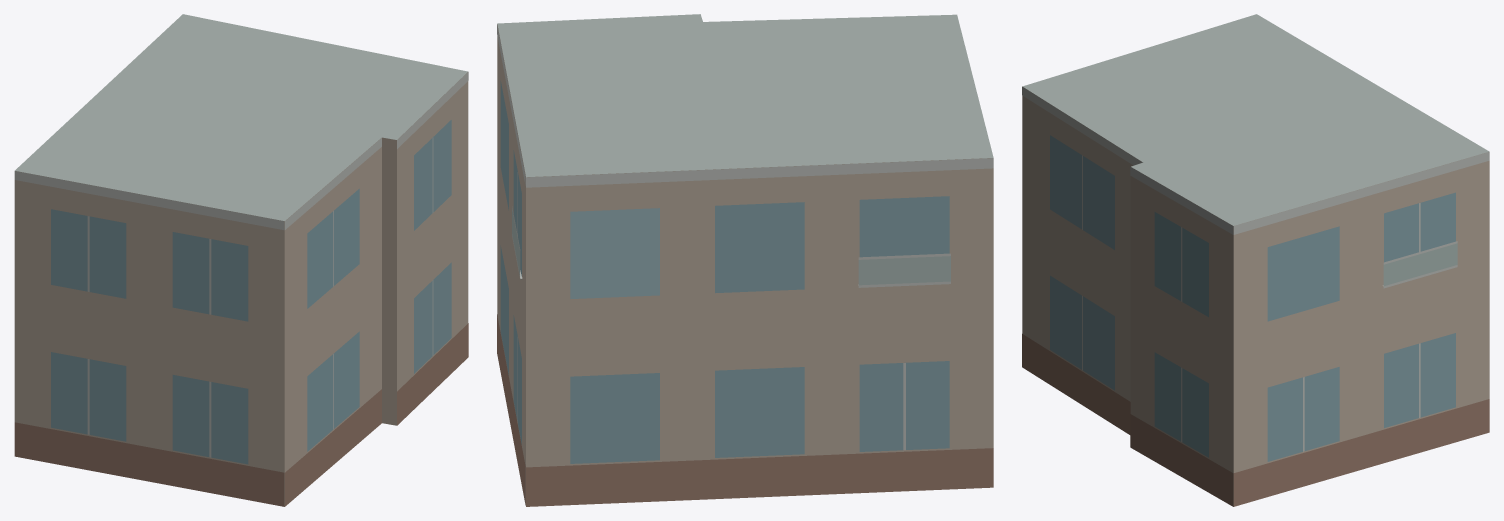
The model's file is survey-upis-32590088.glb.
3 views of the same model, side by side, from view 1: azimuth 30°, elevation 25°; view 2: azimuth 150°, elevation 25°; view 3: azimuth 270°, elevation 25° (orthographic). The views are drawn at different scales.
Parts seen in each view (by area): view 1: survey-upis-32590088.tmp; view 2: survey-upis-32590088.tmp; view 3: survey-upis-32590088.tmp.
Part boxes in pixels (x1,y1,x2,y2): survey-upis-32590088.tmp: [14, 14, 468, 506]; survey-upis-32590088.tmp: [497, 14, 993, 506]; survey-upis-32590088.tmp: [1022, 14, 1489, 506].
Size of the model in its own units: 12.31 by 7.6 by 11.47.
